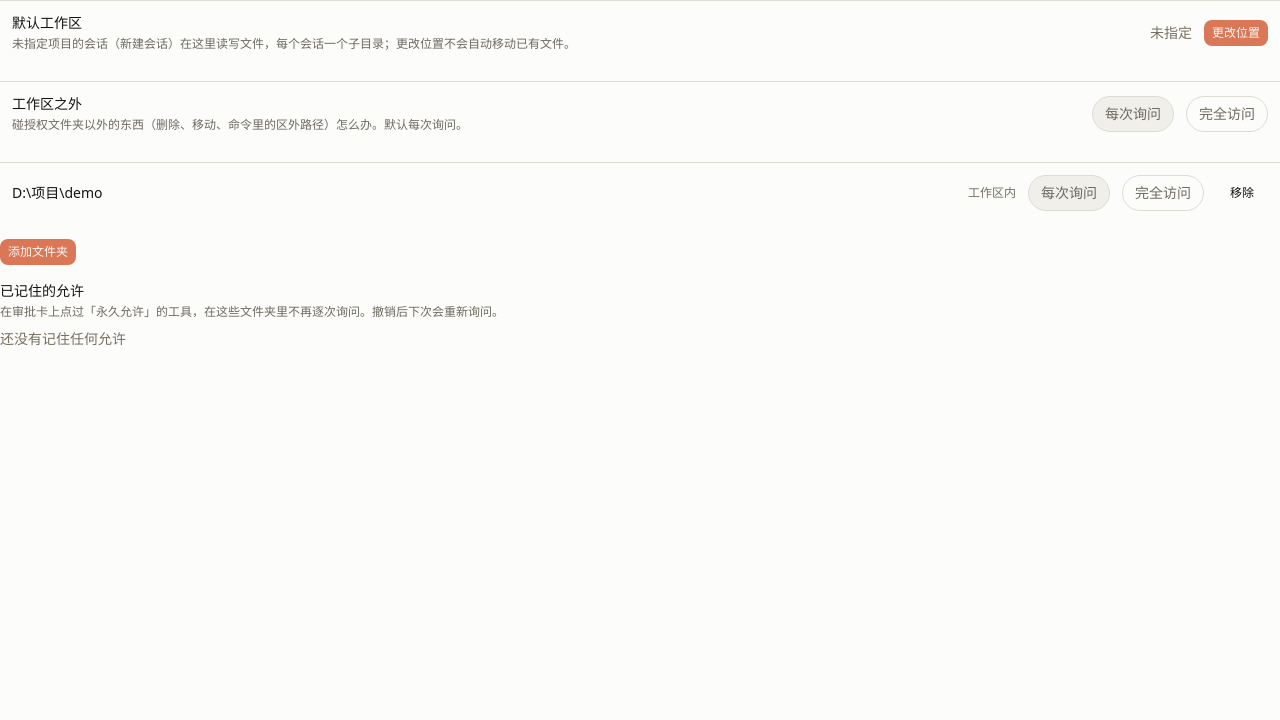
Scenario: 工作区组 · 模式切换（T13：full 走显式确认） › 确认框里取消 → 什么都不改（还是「每次询问」）
This screenshot has width=1280, height=720.
Step 1. Click the button with test id "workspace-0-mode-full" → (1163, 193), box [1122,175,1204,211]
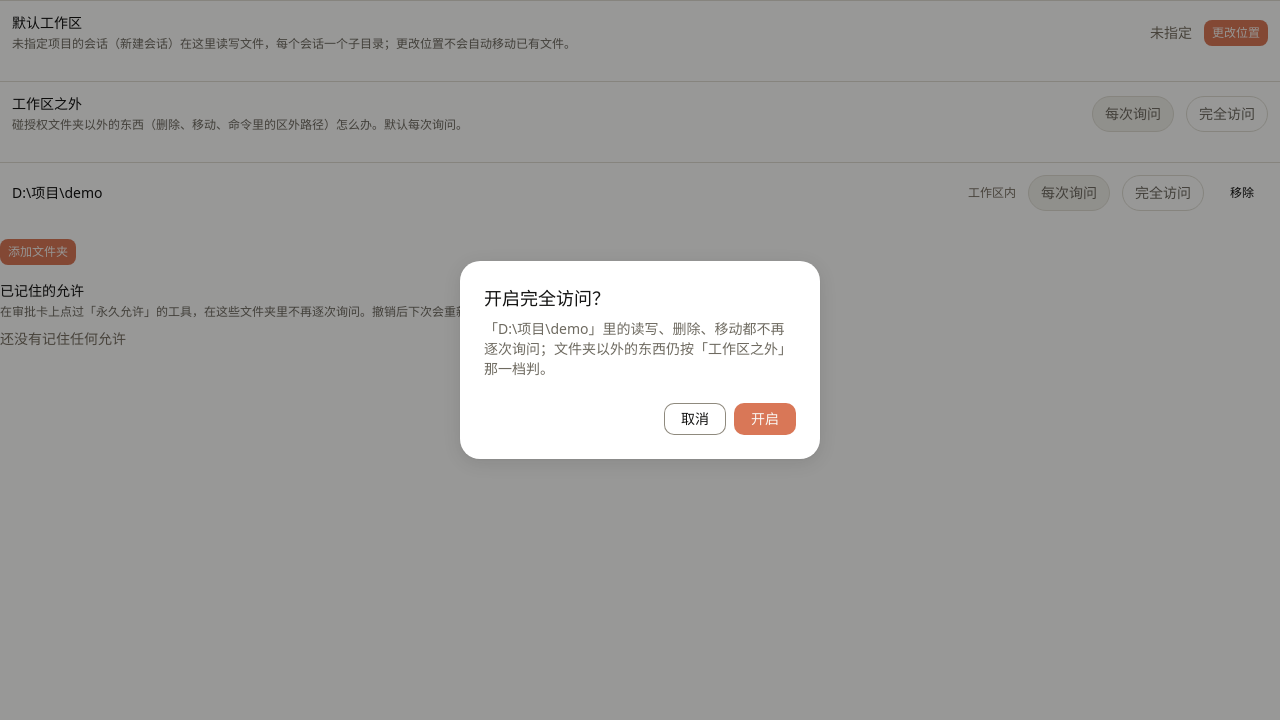
Step 2. Click the button with test id "workspace-full-cancel" → (695, 419), box [664,403,726,435]
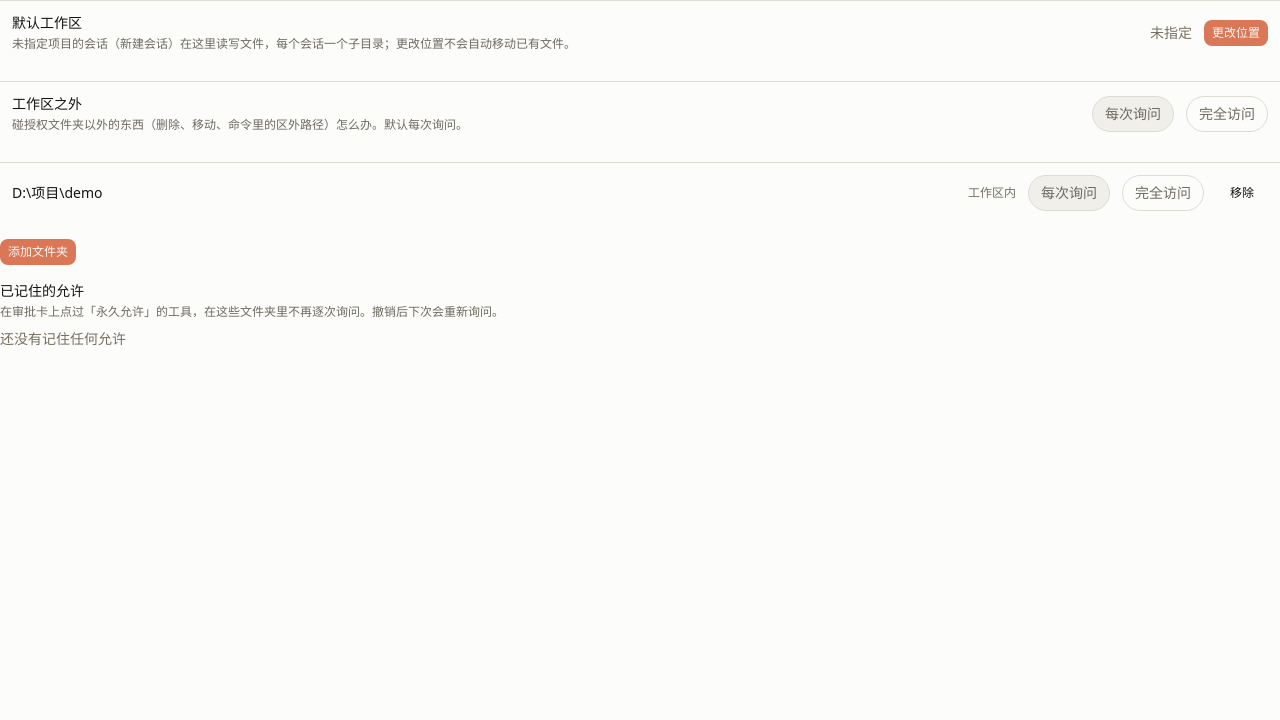
Expected: the button with test id "workspace-full-confirm" is gone
